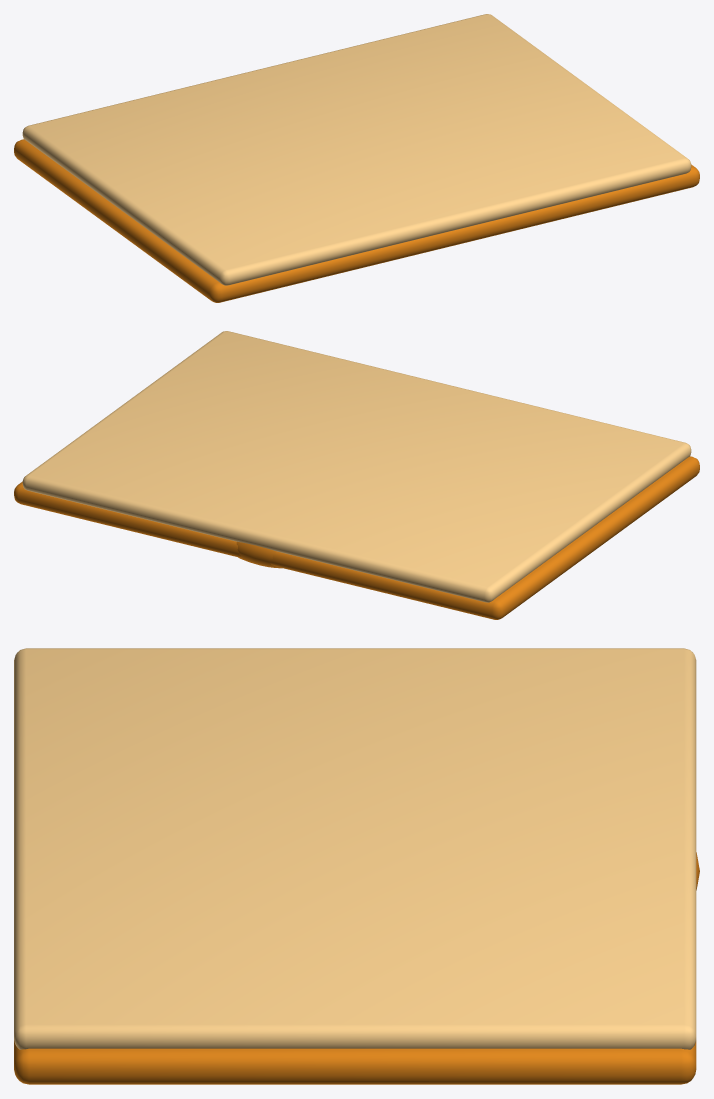
Rendered from BedroomDreamArt_Premium.fbx.
The picture shows the model from 3 angles, top to bottom: view 1: azimuth 30°, elevation 25°; view 2: azimuth 150°, elevation 25°; view 3: azimuth 270°, elevation 25°; orthographic projection. The views are drawn at different scales.
Parts seen in each view (by area): view 1: BedroomDreamArt; view 2: BedroomDreamArt; view 3: BedroomDreamArt.
Part boxes in pixels (<box>): BedroomDreamArt: <box>14,14,699,302</box>; BedroomDreamArt: <box>14,331,699,619</box>; BedroomDreamArt: <box>14,648,699,1084</box>.
Size of the model in its own units: 1.05 by 0.098 by 0.76.
